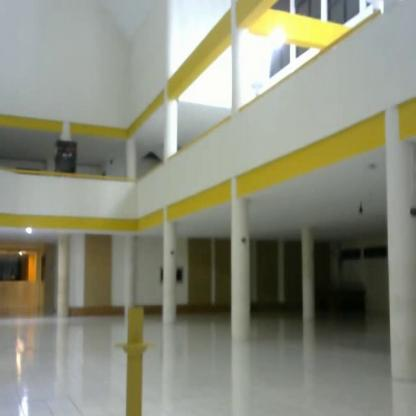pole: (109, 293, 163, 416)
